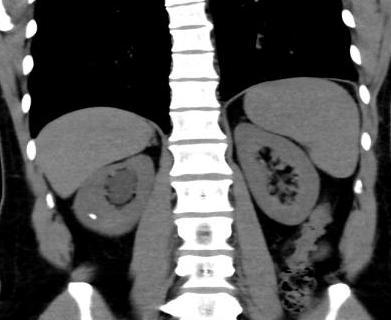Tas_Var: (86, 212, 98, 222)
